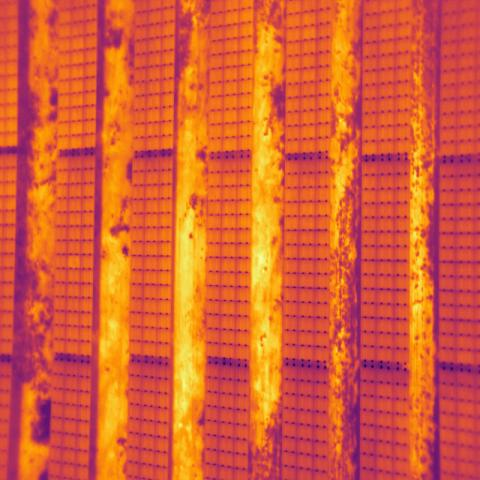fault: (68, 252, 81, 270)
